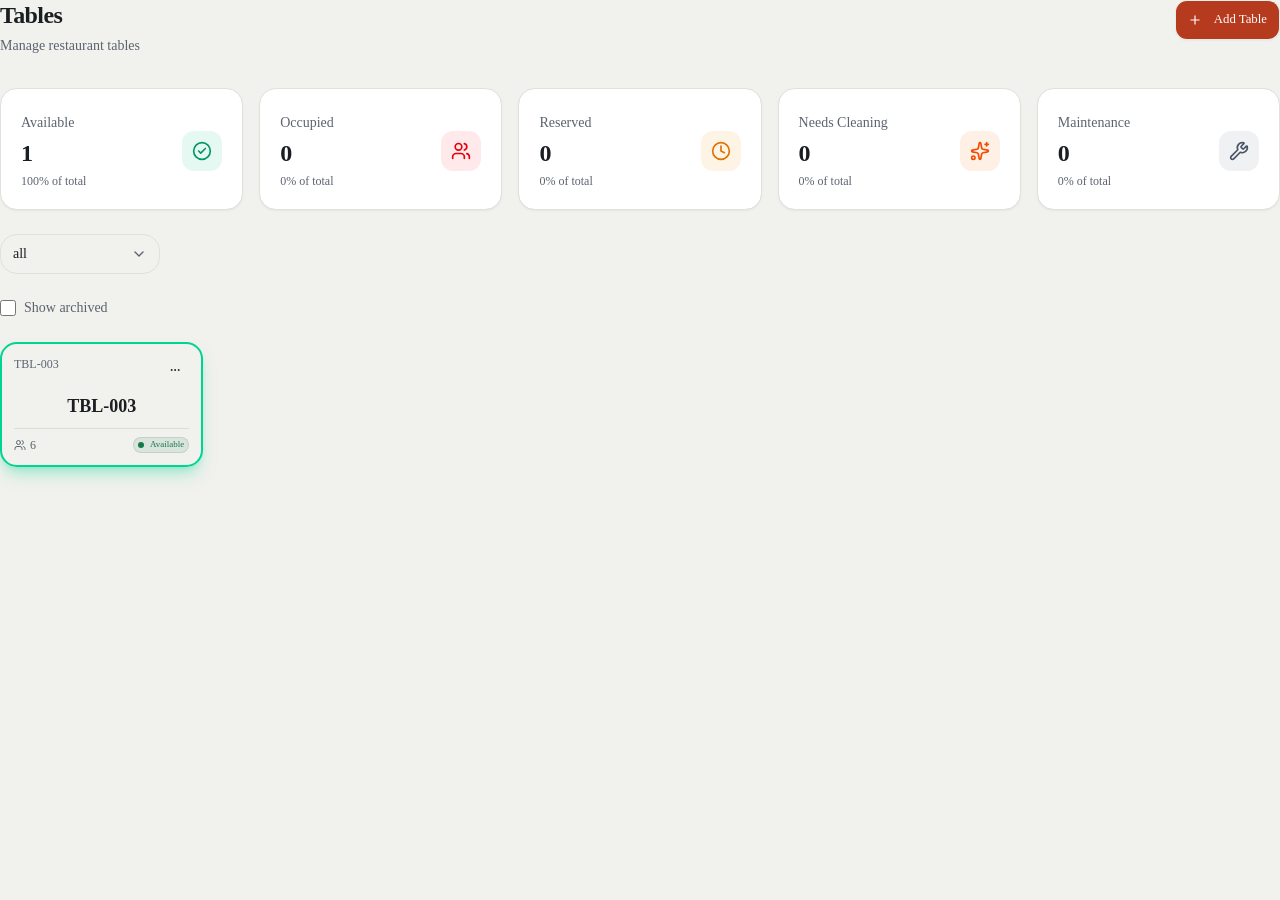
Test: TablesPage view dialog › view dialog shows Capacity/Shape/Wheelchair but no Section/Zone
Step 1. Click the button named "Actions" → (175, 370), box [161,356,189,384]
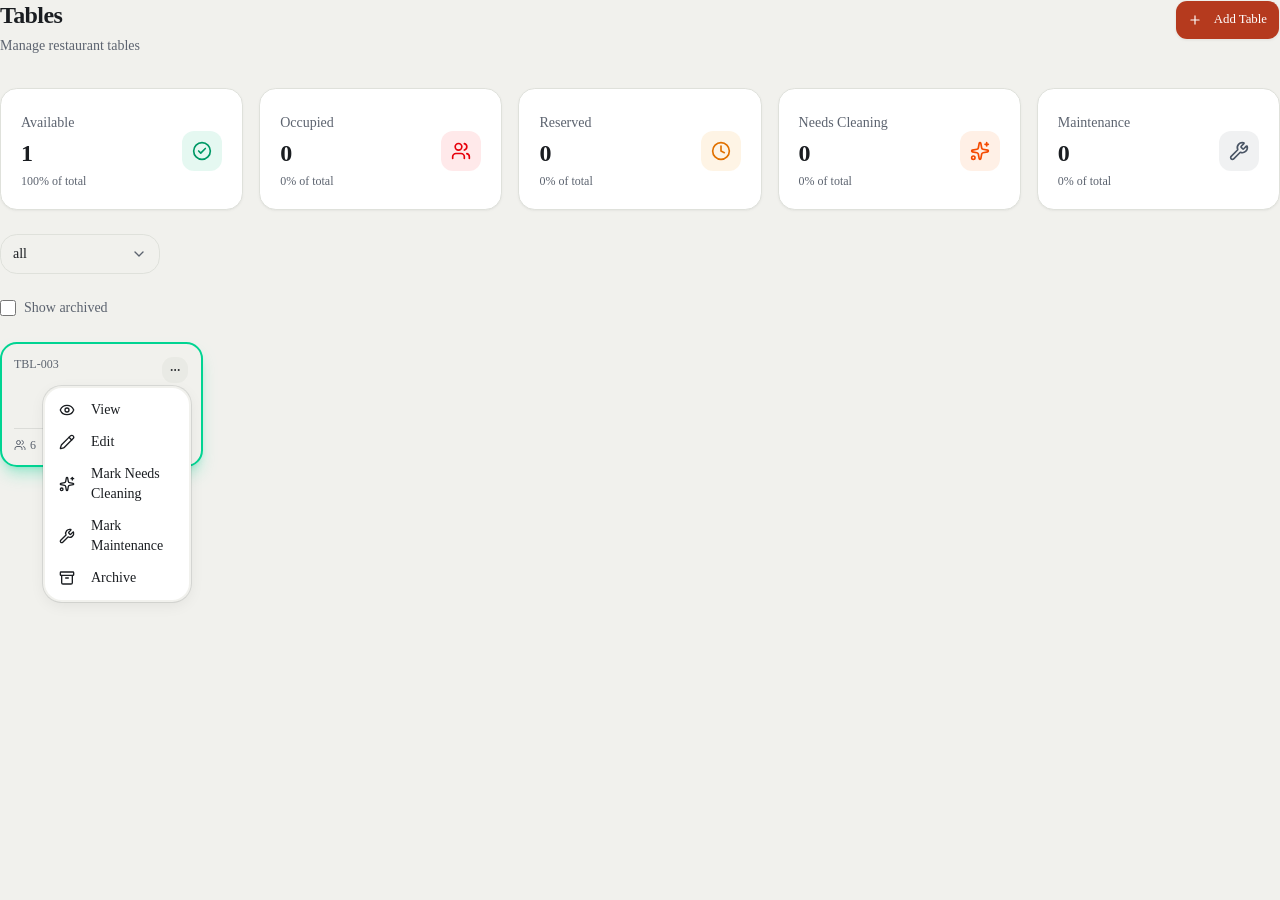
Step 2. Click the menu item "View" → (90, 410), box [59,402,120,418]
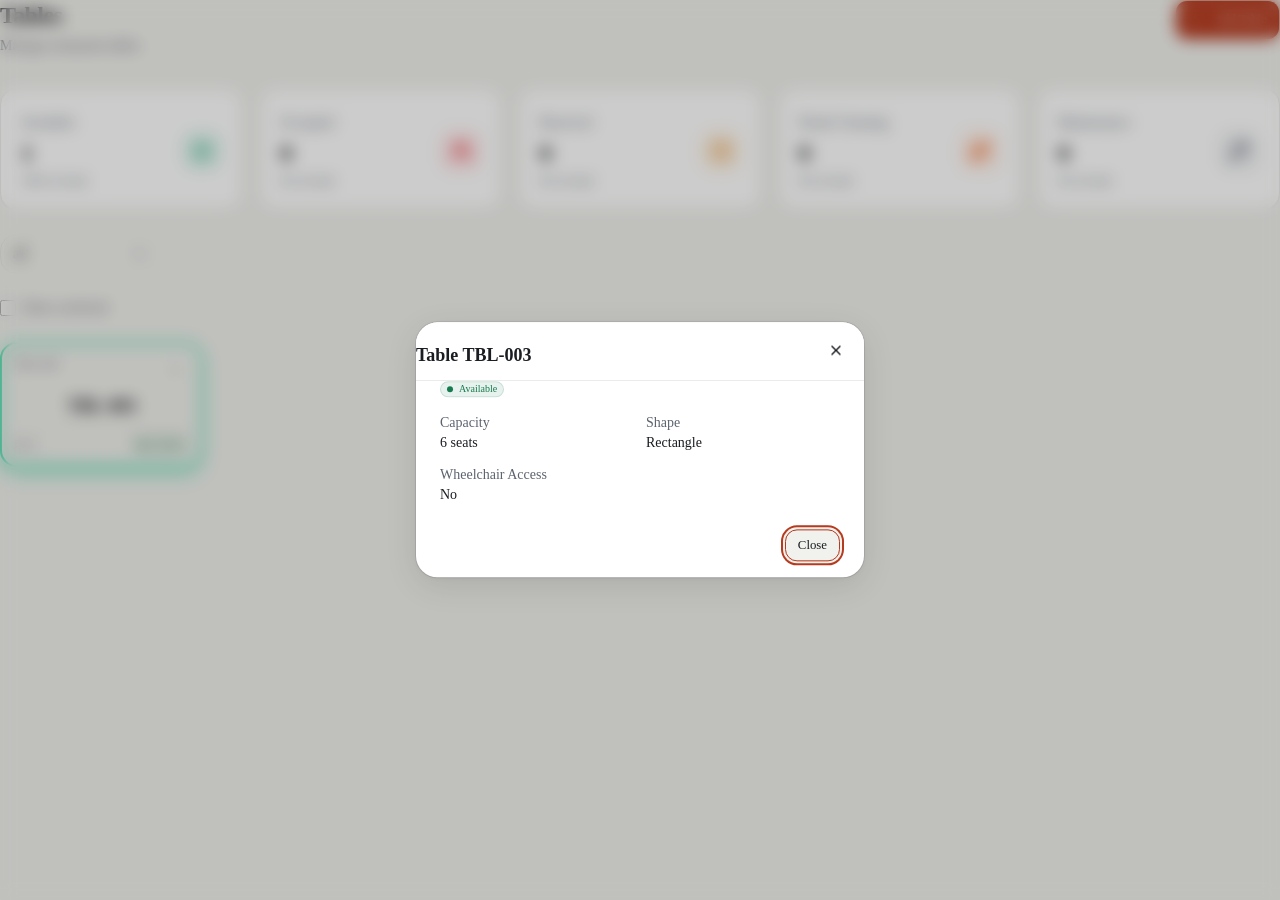
Result: the heading "Table TBL-003" is shown at [416,345,532,365]
Result: the text "6 seats" is shown at [440,436,478,451]
Result: the text "Rectangle" is shown at [646,436,702,451]
